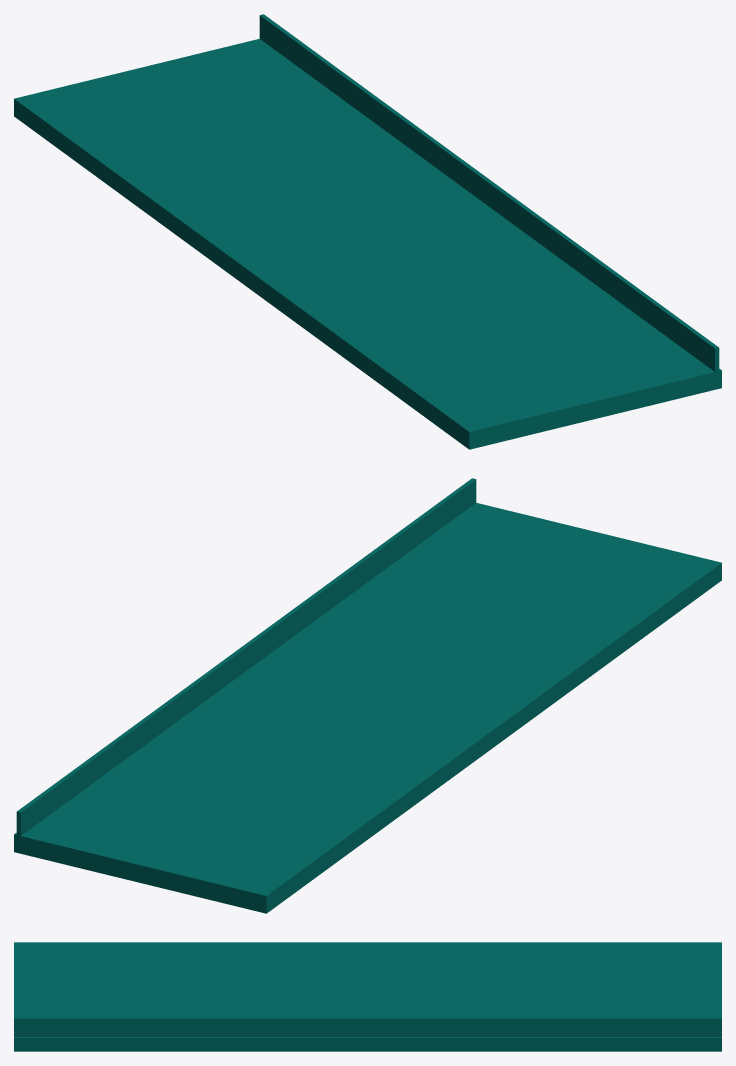
The model's file is building2.fbx.
3 renders of one model, top to bottom at view 1: azimuth 30°, elevation 25°; view 2: azimuth 150°, elevation 25°; view 3: azimuth 270°, elevation 25°, orthographic. The views are drawn at different scales.
Parts seen in each view (by area): view 1: Cube.002; view 2: Cube.002; view 3: Cube.002.
Part boxes in pixels (bbox=[...]): Cube.002: bbox=[14, 14, 721, 449]; Cube.002: bbox=[14, 478, 721, 913]; Cube.002: bbox=[14, 942, 721, 1051].
Bounding box in the file's own units: 2.83 × 0.4408 × 8.83.
